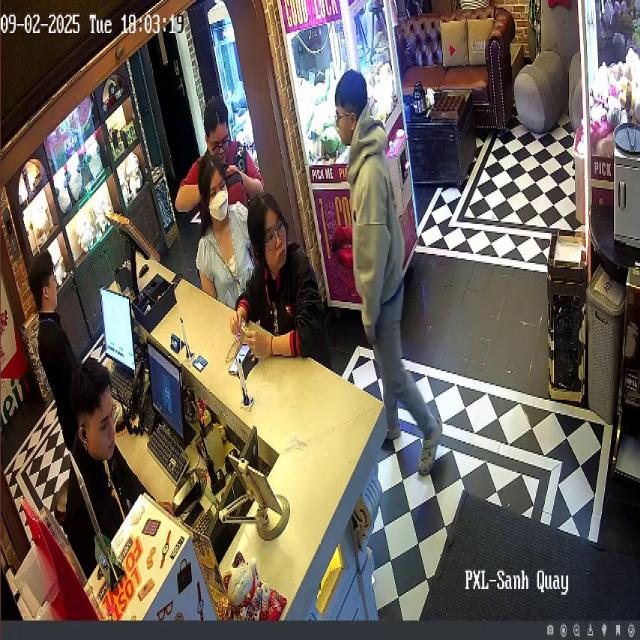khach: (331, 62, 446, 483), (232, 189, 328, 375), (164, 95, 270, 235), (194, 159, 260, 330)
nhan vien: (63, 353, 137, 567), (22, 249, 83, 472)
